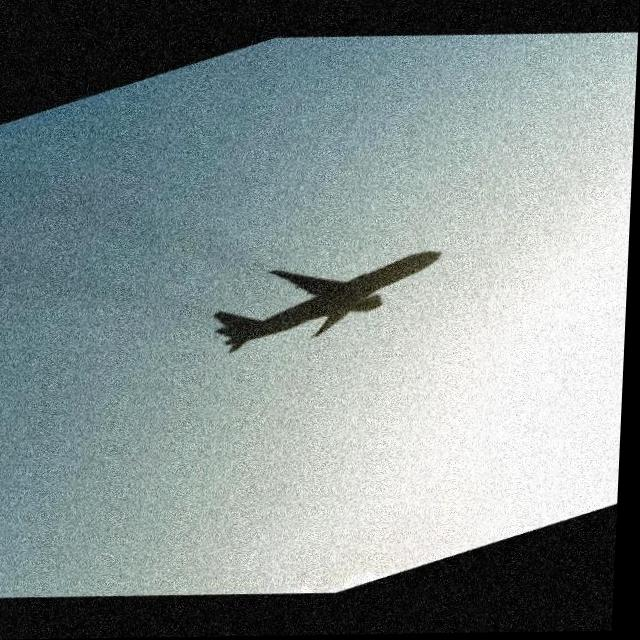airplane: (213, 246, 447, 353)
